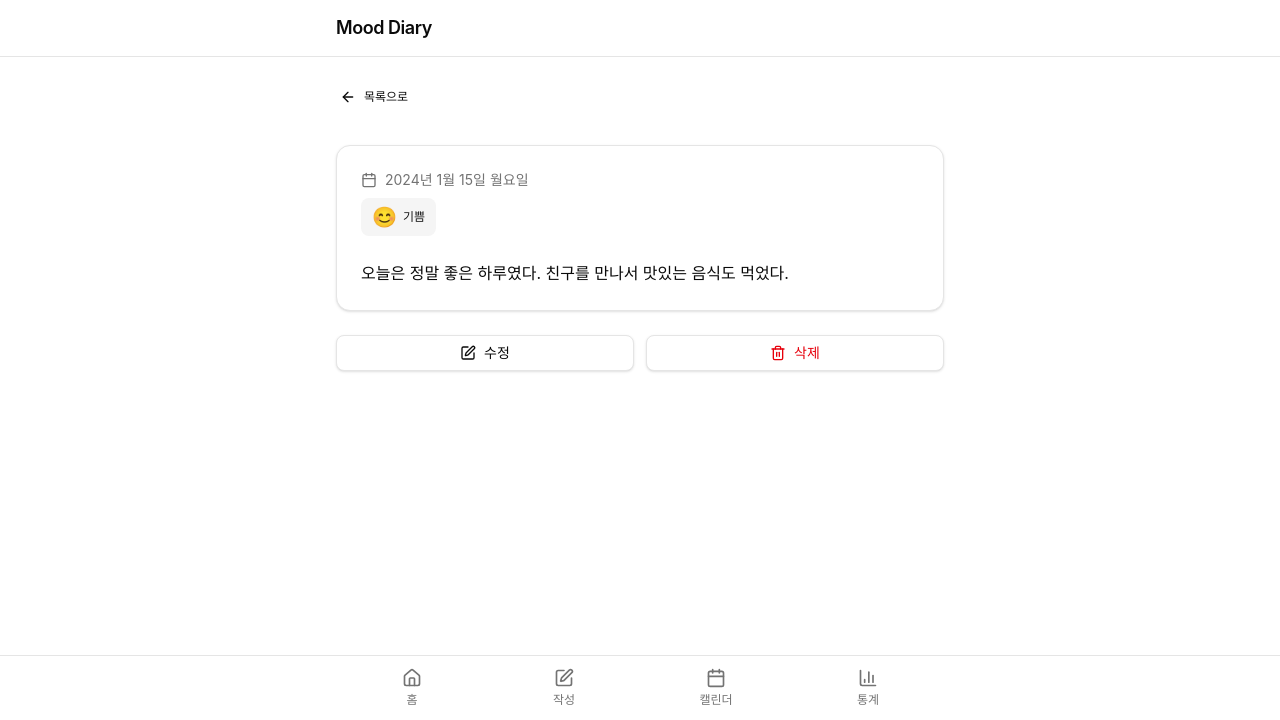
it: DetailPage (TC-006, TC-011) › TC-011-1: 삭제 확인 다이얼로그 › 삭제 버튼 클릭 시 확인 다이얼로그가 표시된다
What coordinates should you click on to do the following:
click the button "삭제"
I would click on:
 (795, 353)
Its box is [646, 335, 944, 371].
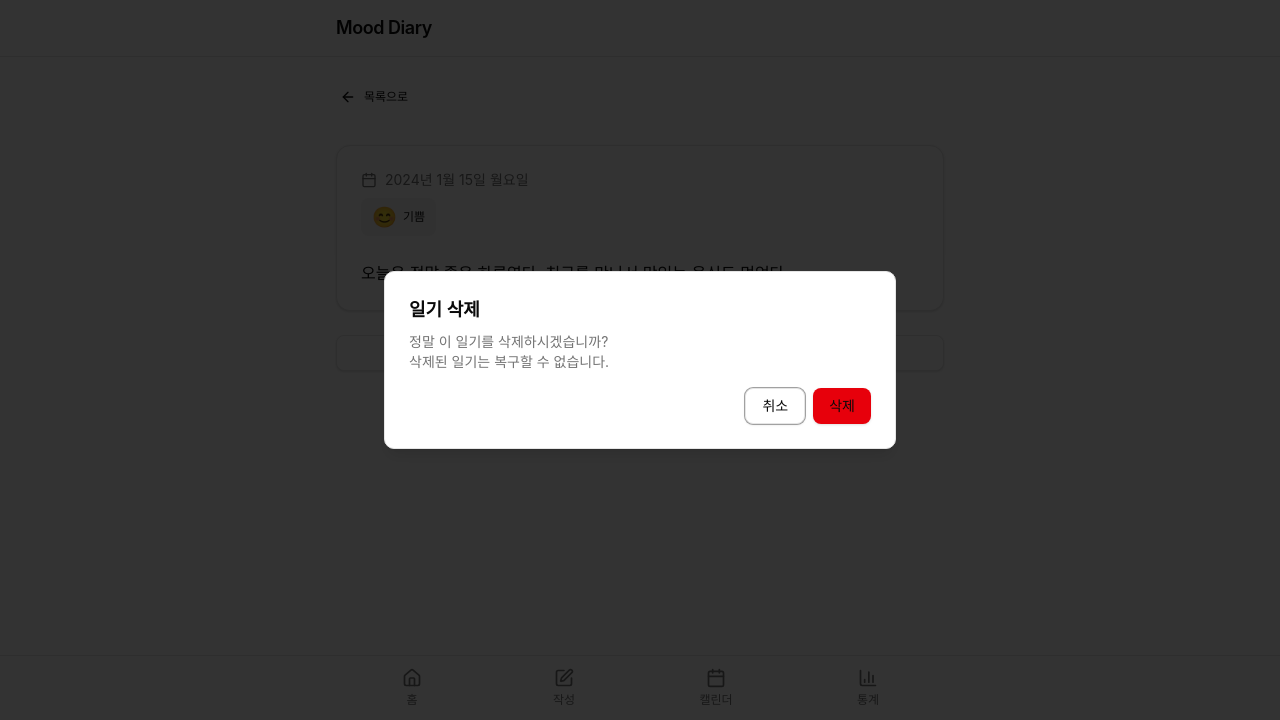
expect the heading "일기 삭제" is shown: met, box [409, 299, 480, 320]
expect the text "정말 이 일기를 삭제하시겠습니까?삭제된 일기는 복구할 수 없습니다." is shown: met, box [409, 333, 609, 370]
